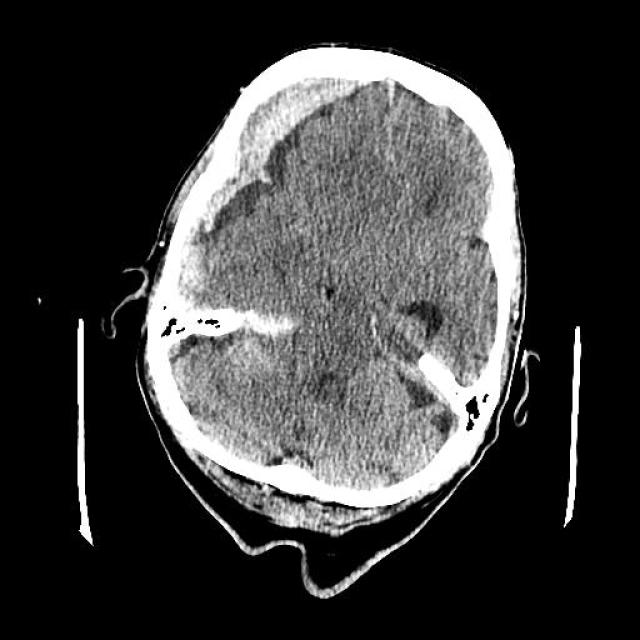Subdural: (158, 59, 378, 306)
